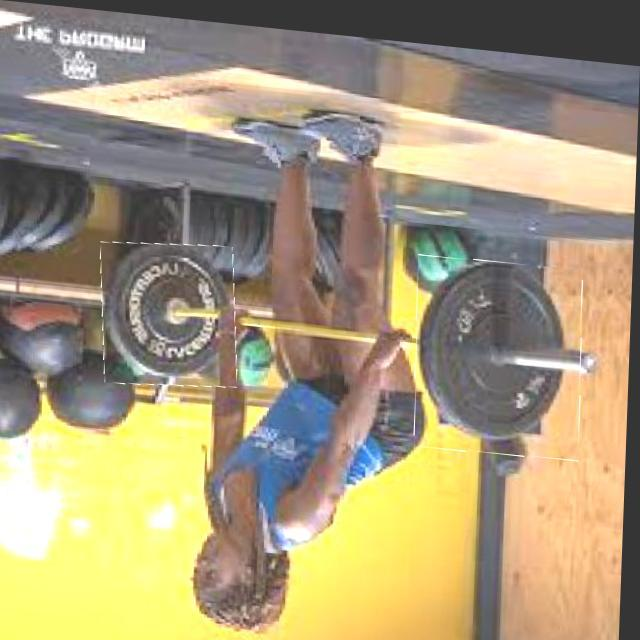barbell: (417, 245, 587, 451), (102, 234, 243, 389)
